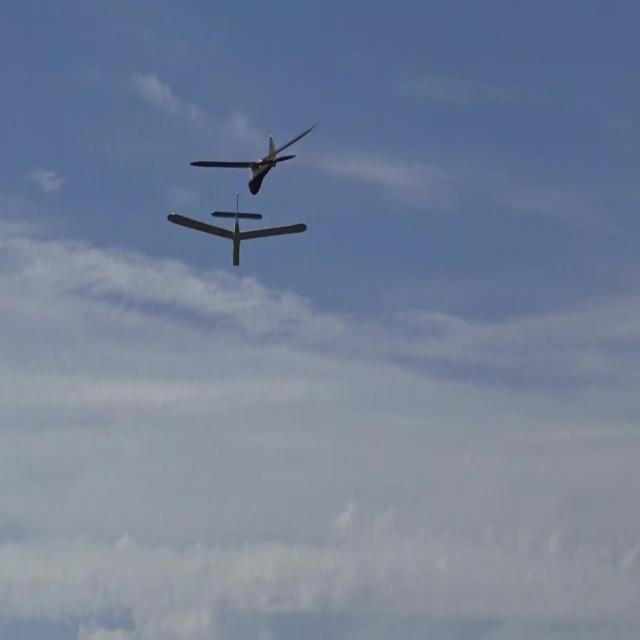iha: (170, 222, 304, 237), (189, 151, 319, 165)
